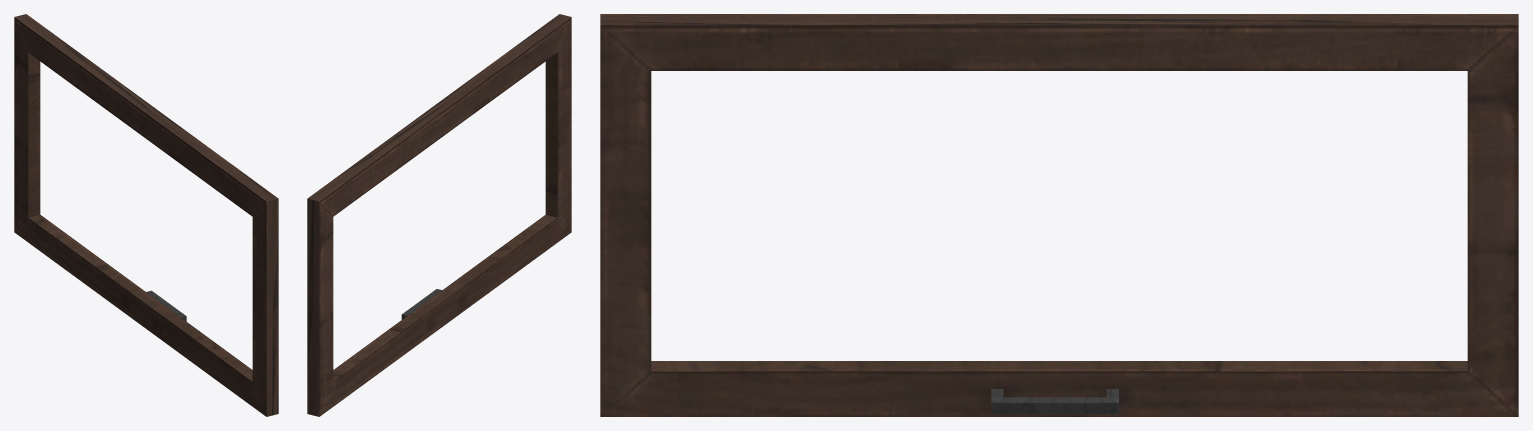
File: dest_glo_bookshelf_wood01_dmg1_lod1.glb
3 views of the same model, side by side, from view 1: azimuth 30°, elevation 25°; view 2: azimuth 150°, elevation 25°; view 3: azimuth 270°, elevation 25° (orthographic). The views are drawn at different scales.
Visible parts, largest first — view 1: surf0; view 2: surf0; view 3: surf0.
Boxes of the visible parts, left/top/right/bottom form: surf0: left=14, top=14, right=278, bottom=416; surf0: left=307, top=14, right=571, bottom=416; surf0: left=600, top=14, right=1518, bottom=416.
Size of the model in its own units: 2.27 by 16.96 by 36.
